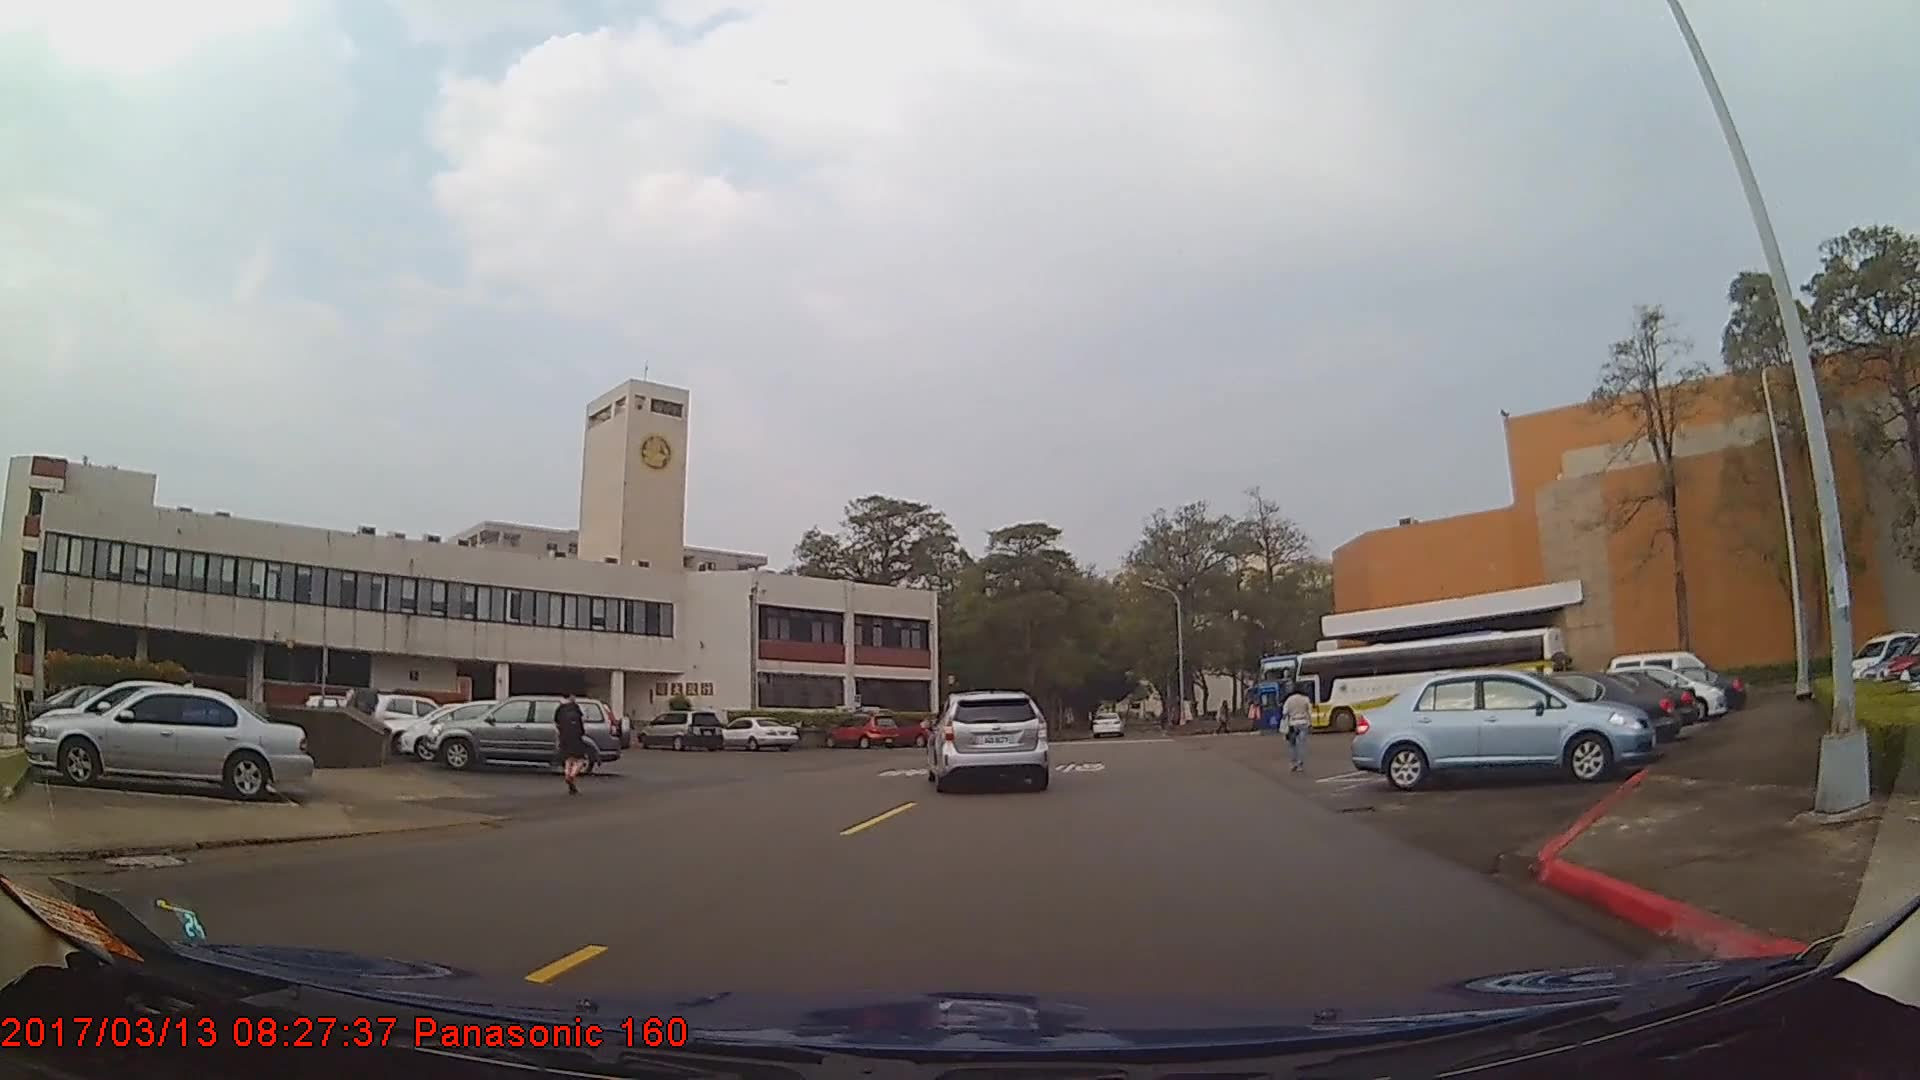pedestrian: (553, 685, 591, 794), (1281, 681, 1313, 771)
vehicle: (1350, 668, 1656, 791), (20, 684, 313, 802), (1293, 625, 1568, 736), (1436, 671, 1680, 750), (422, 694, 626, 777), (1501, 669, 1696, 740), (929, 687, 1047, 794), (397, 698, 556, 763), (373, 690, 463, 743), (635, 708, 726, 751), (823, 712, 902, 751), (716, 714, 799, 750), (1091, 709, 1124, 738)
